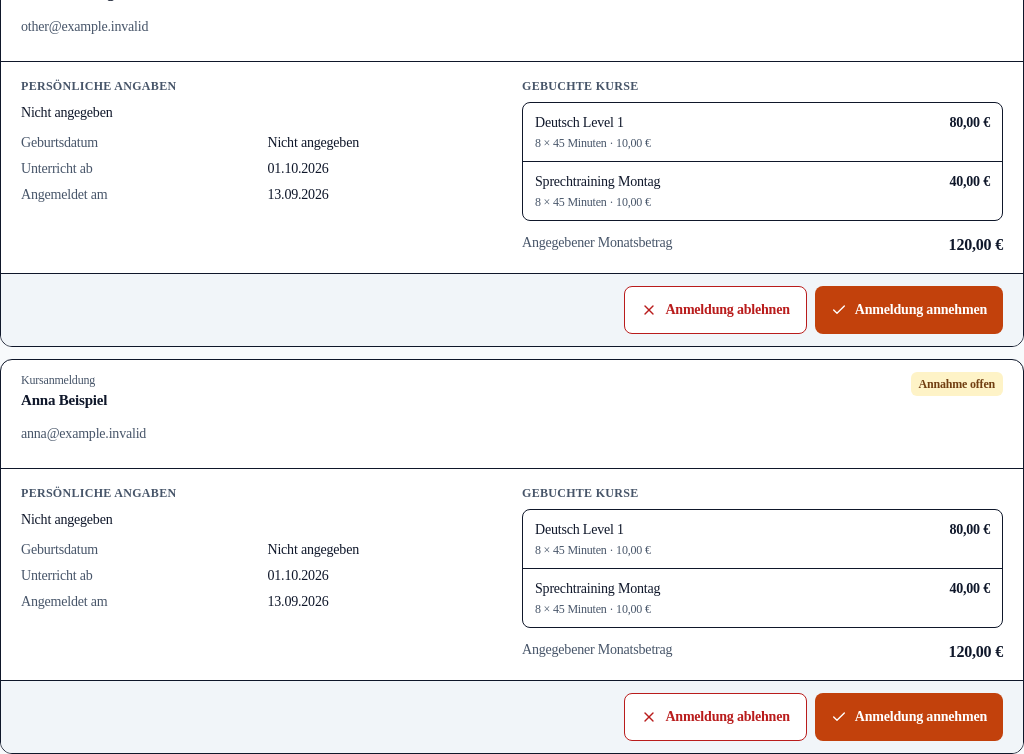
Scenario: identifies the pending request and never declines when cancelled (trial=false)
The width and height of the screenshot is (1024, 754).
(page scrolled)
Click the 2nd button "Anmeldung ablehnen" at [716, 717], box x1=624 y1=693 x2=807 y2=741
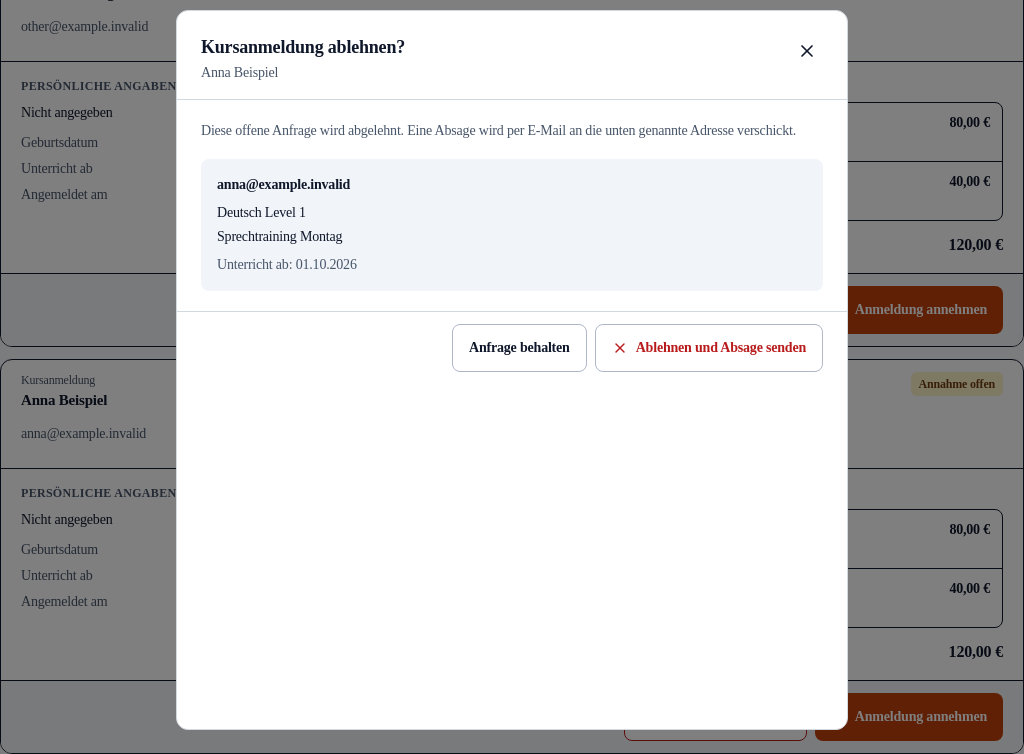
Expected: the heading "Kursanmeldung ablehnen?" is shown, x1=201 y1=33 x2=405 y2=61
Expected: the text "Anna Beispiel" is shown, x1=201 y1=65 x2=278 y2=80
Expected: the text "anna@example.invalid" is shown, x1=217 y1=177 x2=350 y2=192
Click the button "Anfrage behalten" at [519, 348], box x1=452 y1=324 x2=587 y2=372
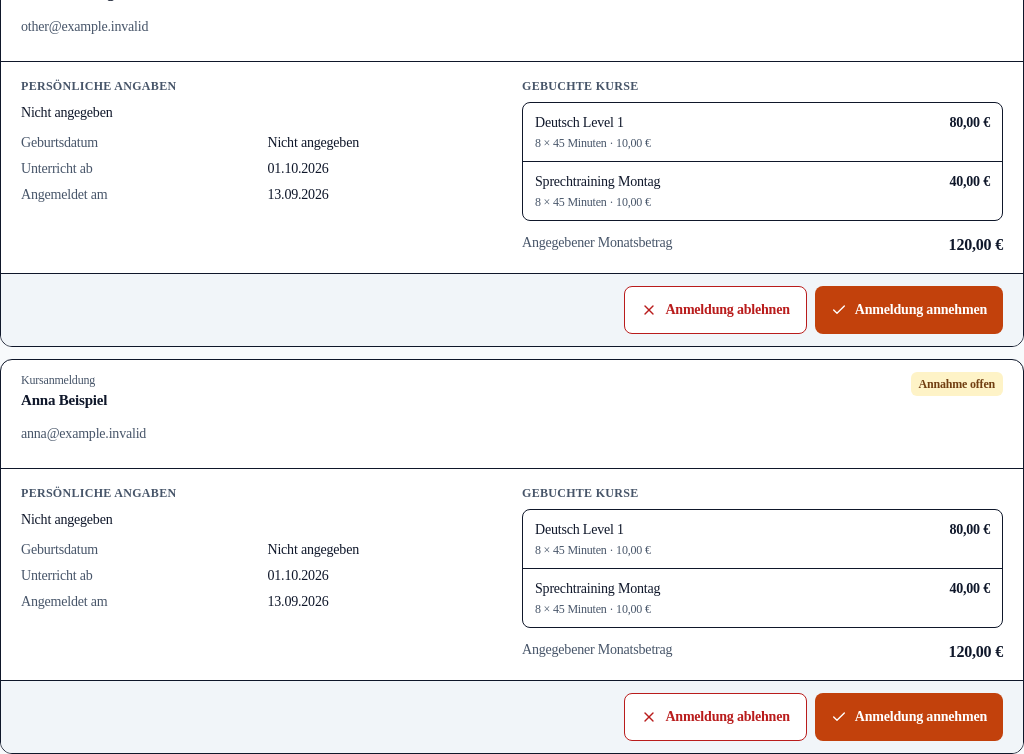
Expected: the text "Annahme offen" in the row of "Anna Beispiel" is shown, x1=919 y1=377 x2=995 y2=391
Expected: the dialog is gone
